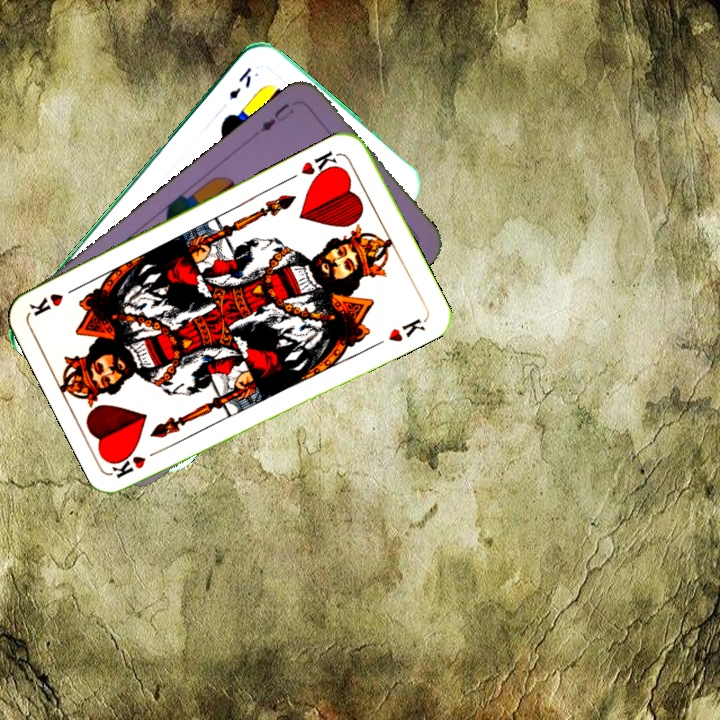EK: (225, 63, 254, 102)
EU: (256, 99, 297, 135)
HK: (110, 444, 167, 481), (296, 146, 343, 183)
